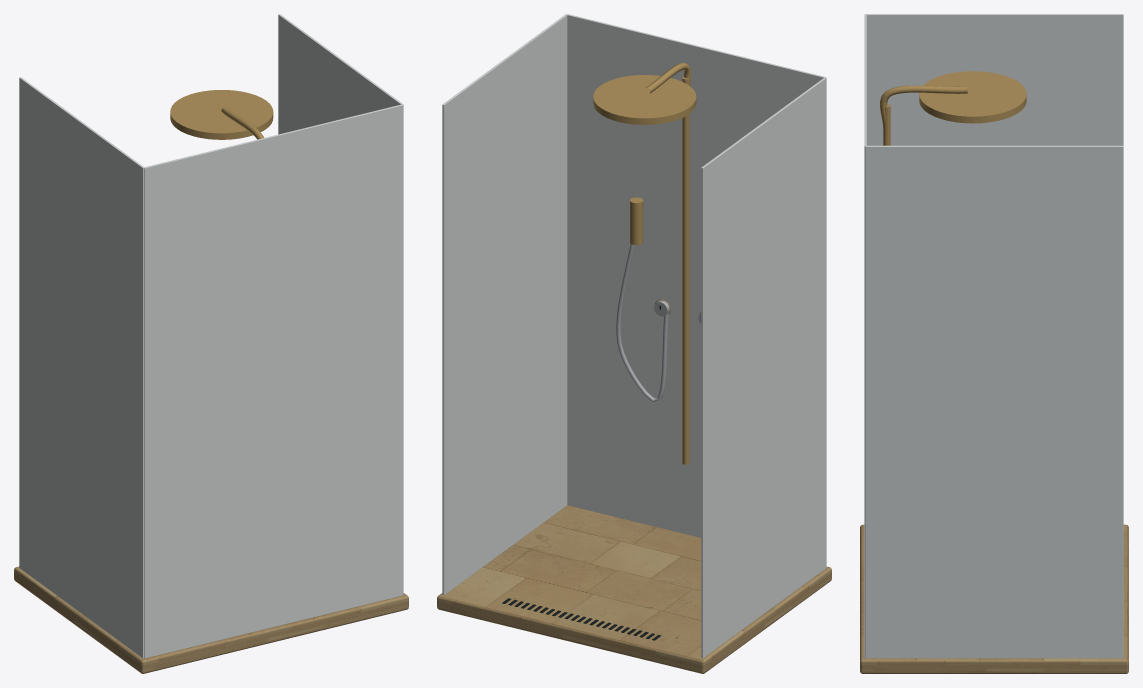
File: luxury-walkin-shower.glb
3 renders of one model, left to right at view 1: azimuth 30°, elevation 25°; view 2: azimuth 150°, elevation 25°; view 3: azimuth 270°, elevation 25°, orthographic. The views are drawn at different scales.
Visible parts, largest first — view 1: glass_3, glass_1, glass_2, stone_0, bronze_4; view 2: glass_3, glass_1, glass_2, stone_0, bronze_4, steel_68, dark_7; view 3: glass_2, glass_1, stone_0, bronze_4, glass_3.
Boxes of the visible parts, left/top/right/bottom form: glass_3: left=144, top=104, right=403, bottom=658; glass_1: left=19, top=77, right=143, bottom=658; glass_2: left=278, top=14, right=403, bottom=594; stone_0: left=14, top=566, right=408, bottom=673; bronze_4: left=170, top=90, right=273, bottom=139; glass_3: left=567, top=14, right=826, bottom=537; glass_1: left=701, top=77, right=826, bottom=658; glass_2: left=442, top=14, right=567, bottom=594; stone_0: left=437, top=505, right=831, bottom=673; bronze_4: left=593, top=63, right=701, bottom=464; steel_68: left=616, top=244, right=701, bottom=402; dark_7: left=502, top=305, right=661, bottom=640; glass_2: left=865, top=145, right=1123, bottom=658; glass_1: left=865, top=14, right=1123, bottom=145; stone_0: left=860, top=524, right=1128, bottom=673; bronze_4: left=880, top=71, right=1026, bottom=145; glass_3: left=864, top=14, right=866, bottom=657.
Size of the model in its own units: 1.2 by 2.16 by 1.
5 materials, 1 textured.
